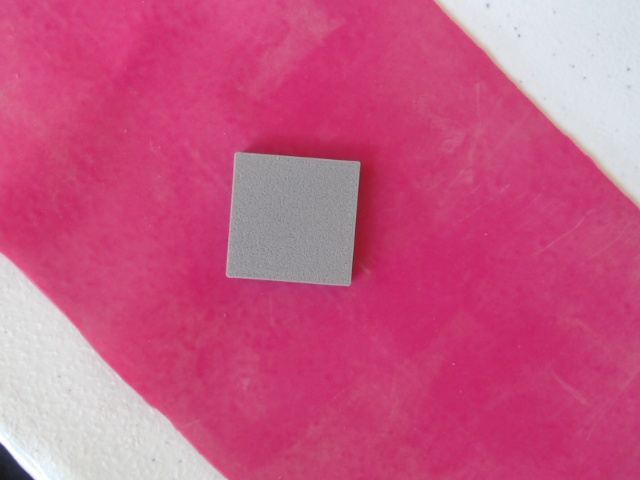Defective: (225, 149, 363, 295)
